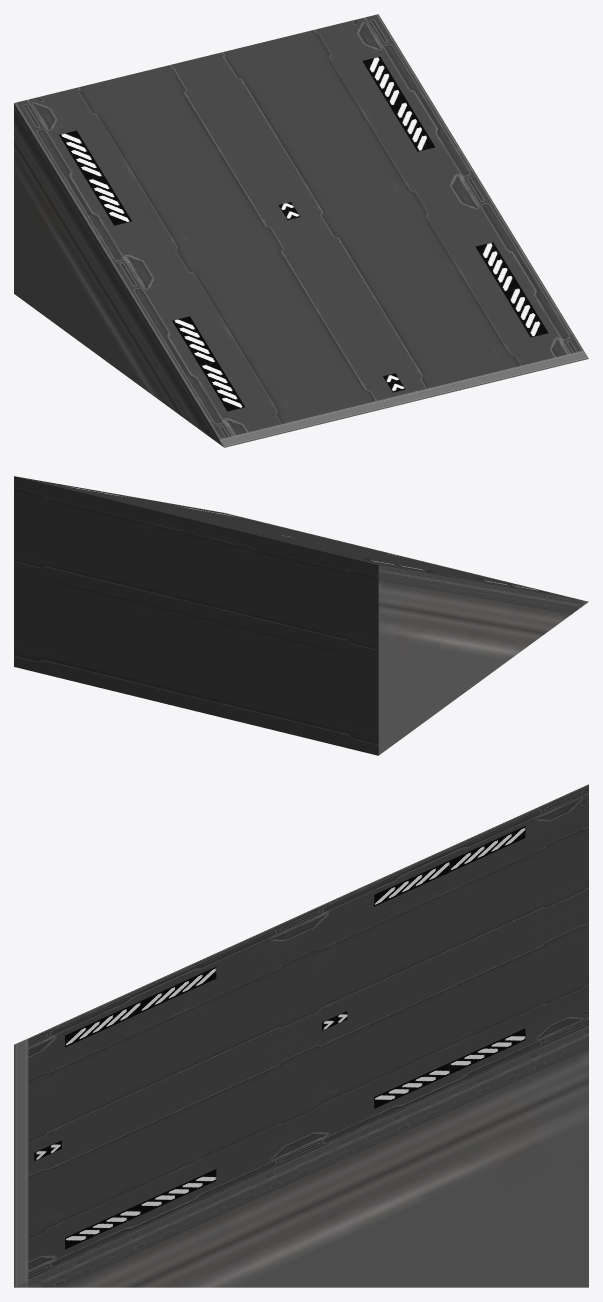
File: Platform_Ramp_4Wide.glb
The picture shows the model from 3 angles, top to bottom: view 1: azimuth 30°, elevation 25°; view 2: azimuth 150°, elevation 25°; view 3: azimuth 270°, elevation 25°; orthographic projection. The views are drawn at different scales.
Visible parts, largest first — view 1: Platform_Ramp_4Wide; view 2: Platform_Ramp_4Wide; view 3: Platform_Ramp_4Wide.
Boxes of the visible parts, x1,y1,x2,y2 form: Platform_Ramp_4Wide: (14, 14, 588, 447); Platform_Ramp_4Wide: (14, 476, 588, 755); Platform_Ramp_4Wide: (14, 784, 588, 1287).
Size of the model in its own units: 4 by 2 by 4.
Materials: 3 (3 with a texture image).
